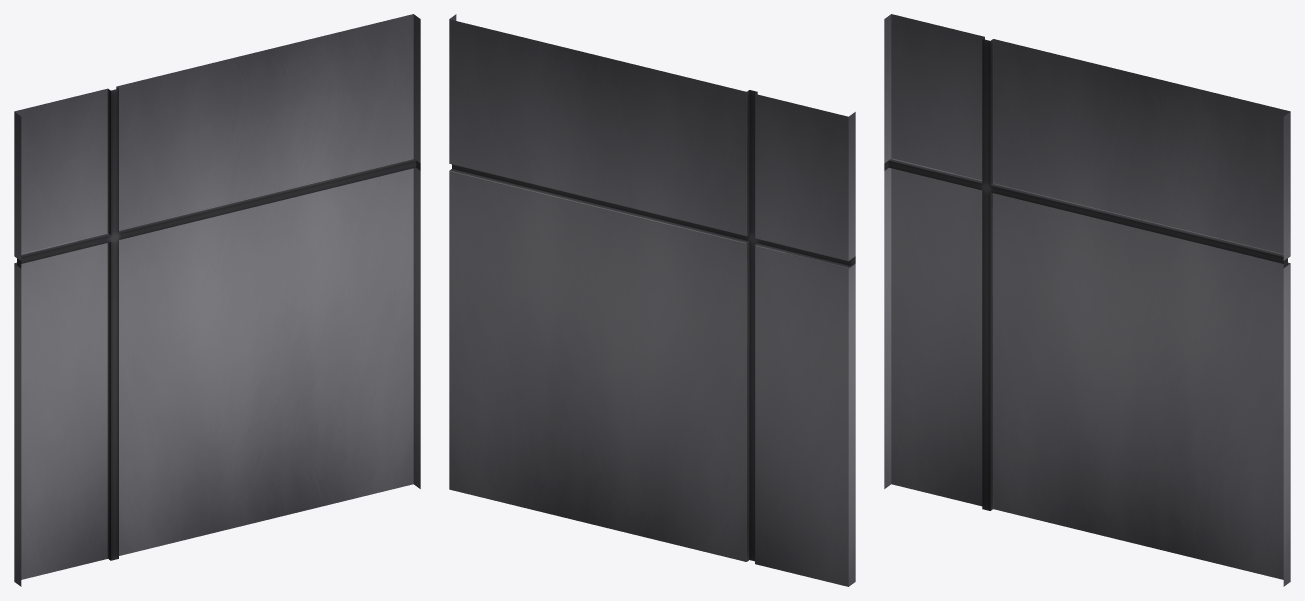
File: VAL_4M_HB.fbx
The picture shows the model from 3 angles, left to right: view 1: azimuth 30°, elevation 25°; view 2: azimuth 150°, elevation 25°; view 3: azimuth 330°, elevation 25°; orthographic projection.
Visible parts, largest first — view 1: VAL_4M_HB; view 2: VAL_4M_HB; view 3: VAL_4M_HB.
Part boxes in pixels (<box>): VAL_4M_HB: <box>14,14,420,586</box>; VAL_4M_HB: <box>449,14,855,586</box>; VAL_4M_HB: <box>884,14,1290,586</box>.
Size of the model in its own units: 4 by 4.5 by 0.125.
